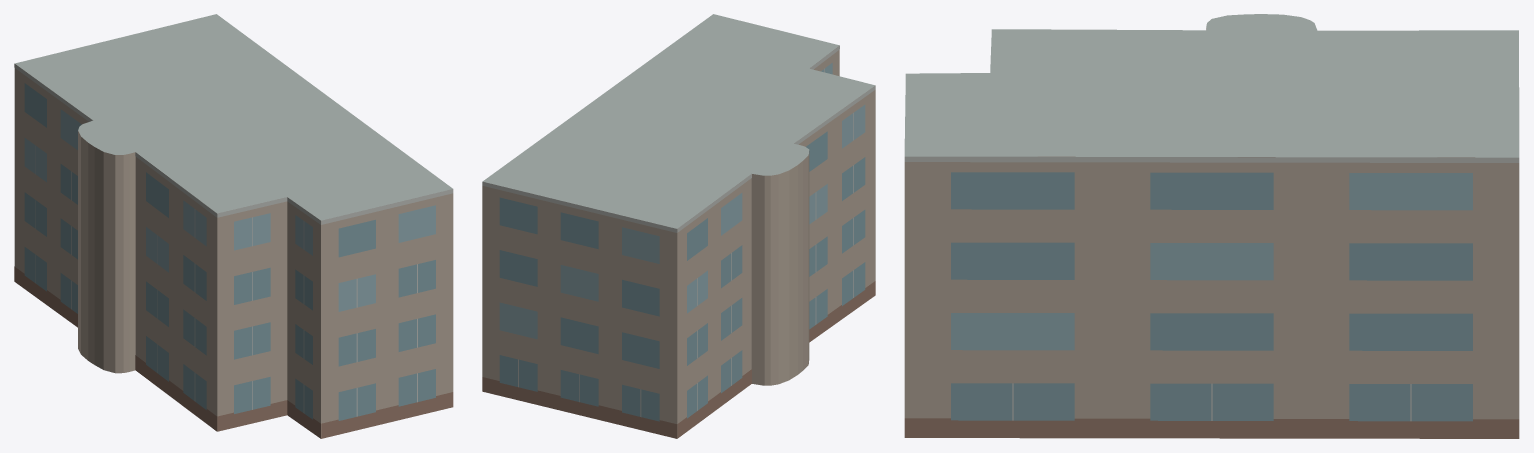
The model's file is survey-upis-32929206.glb.
The picture shows the model from 3 angles, left to right: view 1: azimuth 30°, elevation 25°; view 2: azimuth 150°, elevation 25°; view 3: azimuth 270°, elevation 25°; orthographic projection. The views are drawn at different scales.
Visible parts, largest first — view 1: survey-upis-32929206.tmp; view 2: survey-upis-32929206.tmp; view 3: survey-upis-32929206.tmp.
Boxes of the visible parts, <box> form: survey-upis-32929206.tmp: <box>14,14,453,438</box>; survey-upis-32929206.tmp: <box>482,14,875,438</box>; survey-upis-32929206.tmp: <box>904,14,1519,438</box>.
Bounding box in the file's own units: 13.58 × 12.4 × 24.57.
